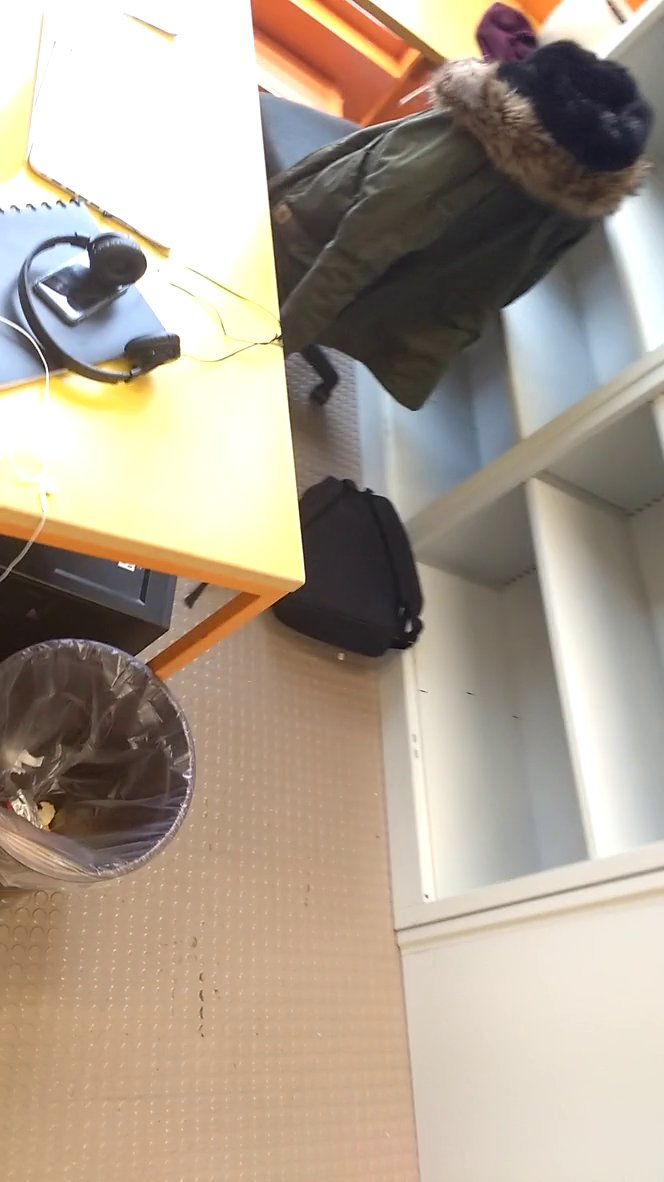bag: (263, 472, 436, 664)
bin: (1, 607, 207, 928)
